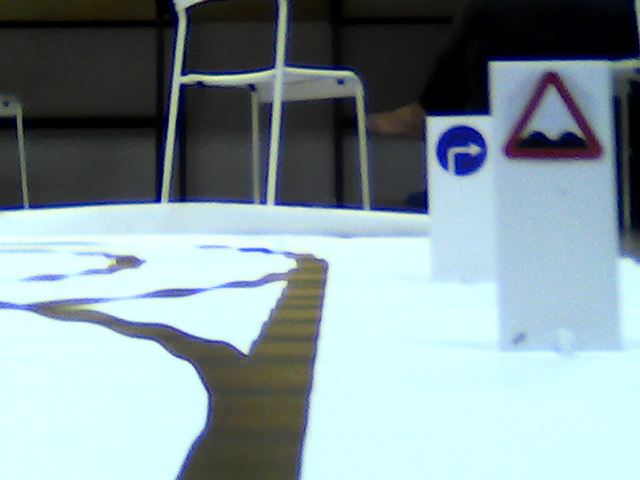Nerov: (504, 65, 605, 164)
Right: (438, 125, 484, 173)
